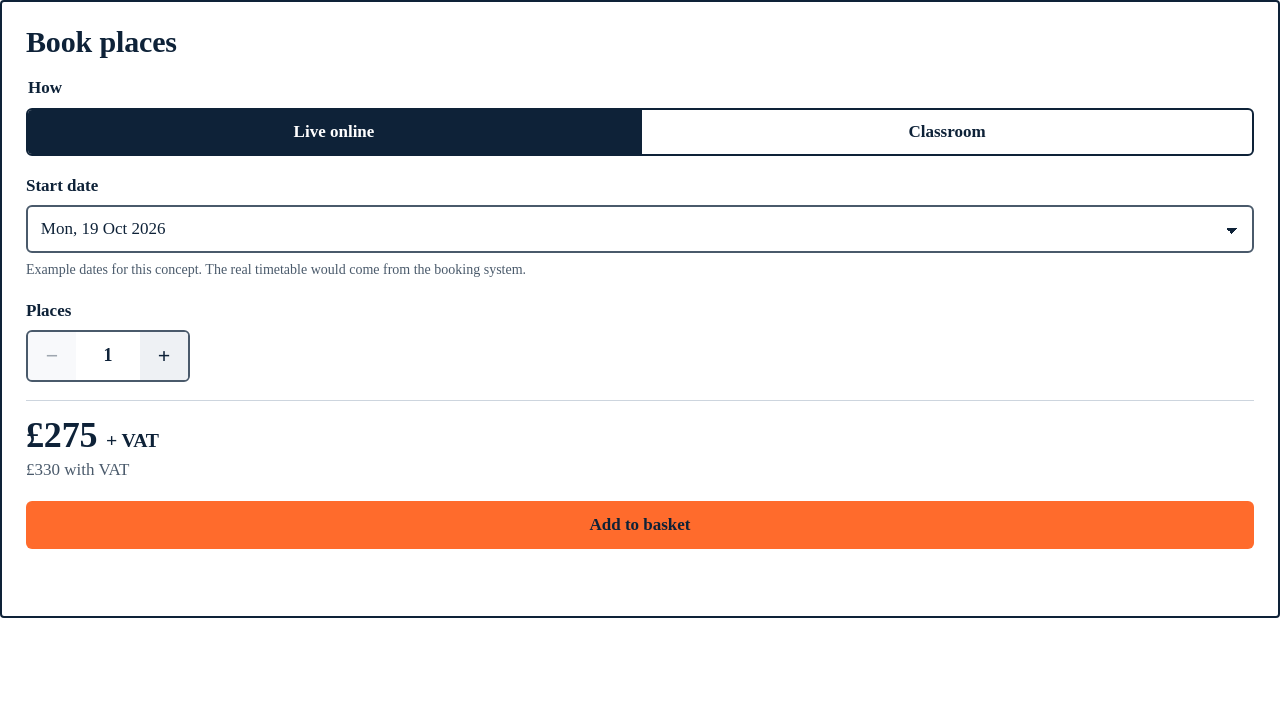
Test: <BookingPanel /> › mentions the bulk discount from 5 places
Replace the text in the number field labelled "Places" with "5" at [108, 356], box [76,332,140,380]
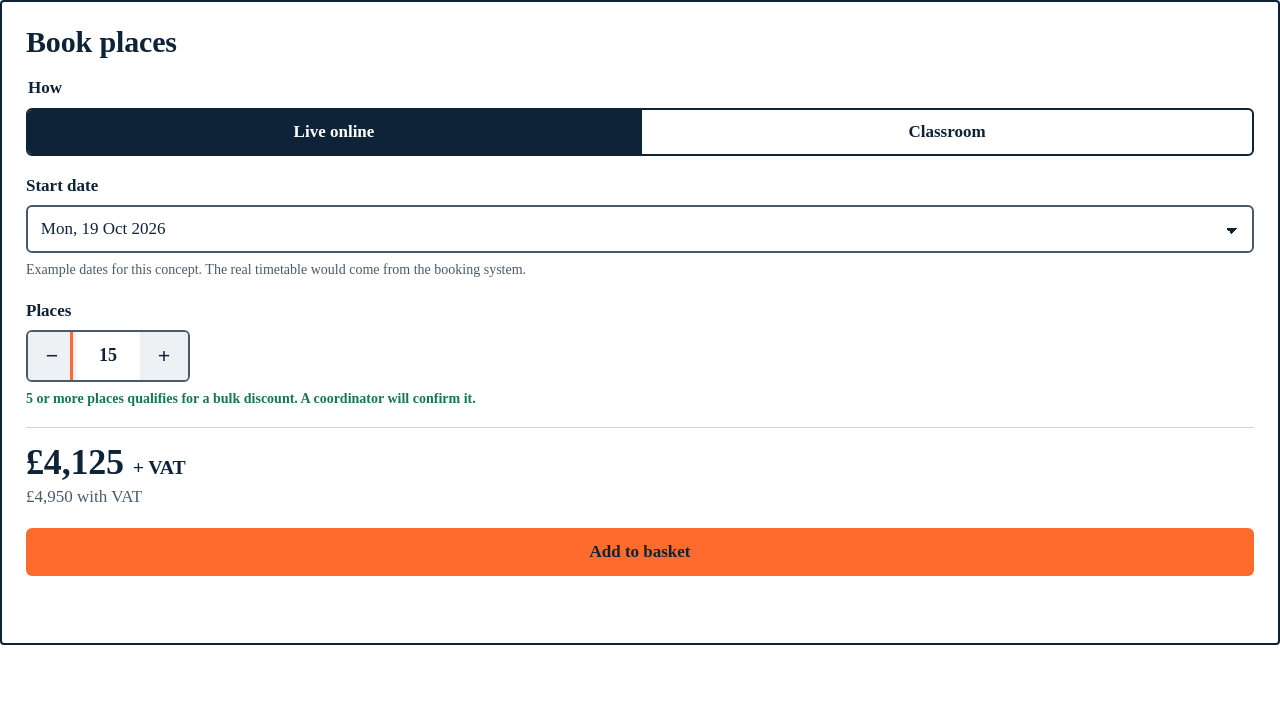
Expected: the text "qualifies for a bulk discount" is shown, [26,391,476,406]
